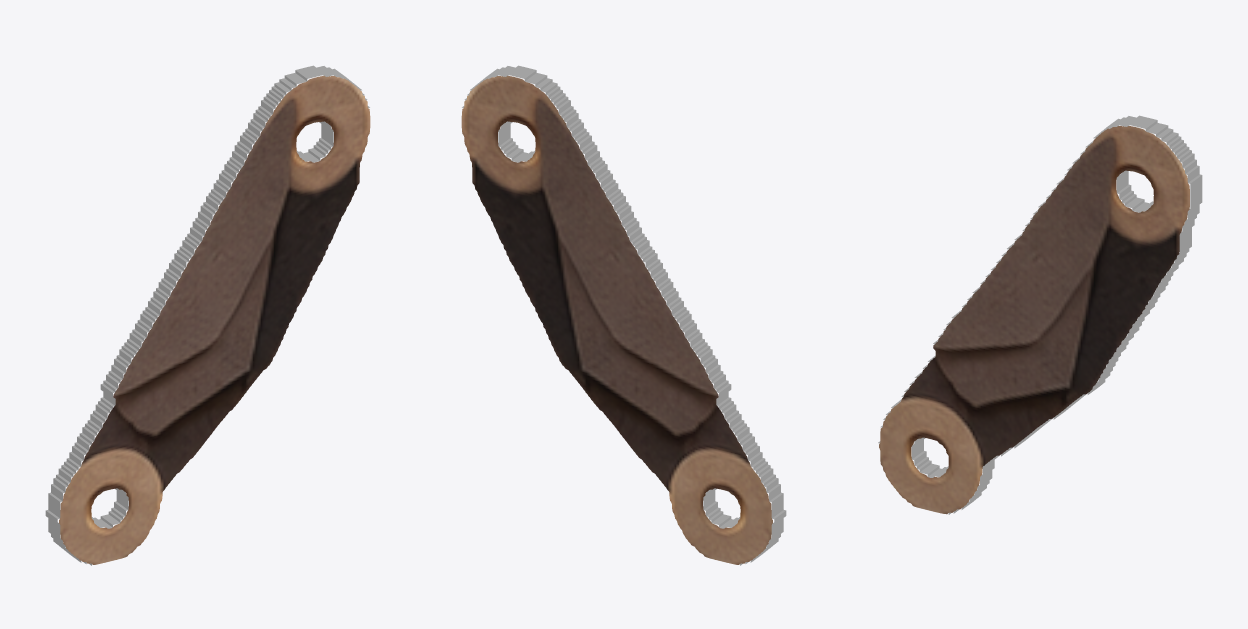
Rendered from Variant03Upper.glb.
3 views of the same model, side by side, from view 1: azimuth 30°, elevation 25°; view 2: azimuth 150°, elevation 25°; view 3: azimuth 330°, elevation 25° (orthographic).
Parts seen in each view (by area): view 1: PaperVolume; view 2: PaperVolume; view 3: PaperVolume.
Boxes of the visible parts, x1,y1,x2,y2 form: PaperVolume: [45, 65, 370, 565]; PaperVolume: [461, 65, 786, 565]; PaperVolume: [878, 115, 1202, 514].
Bounding box in the file's own units: 1.43 × 1.82 × 0.08.
3 materials, 2 textured.
